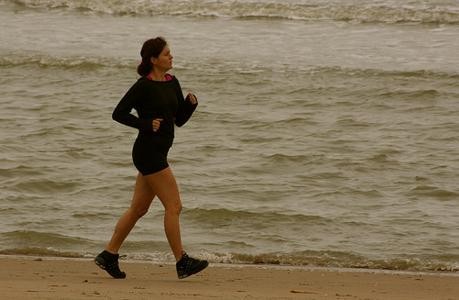person: (94, 38, 211, 281)
